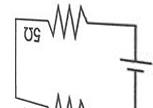resistor: (43, 1, 95, 39)
